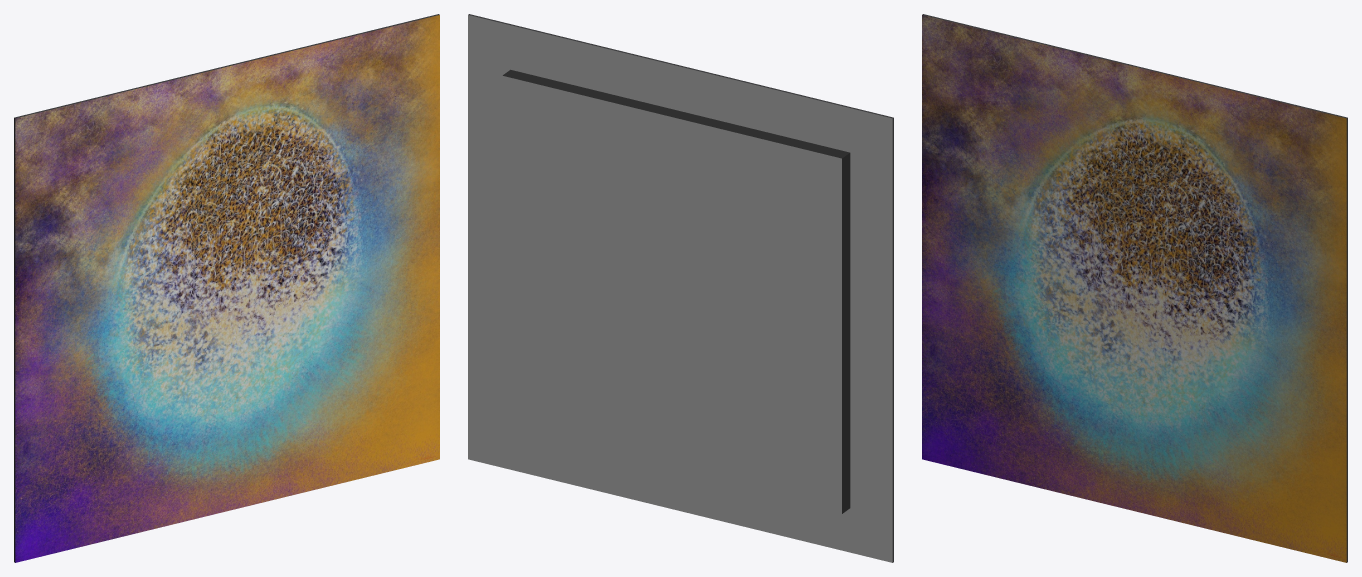
The model's file is vague-amour-366_moyen_dibond.glb.
3 renders of one model, left to right at view 1: azimuth 30°, elevation 25°; view 2: azimuth 150°, elevation 25°; view 3: azimuth 330°, elevation 25°, orthographic.
Parts seen in each view (by area): view 1: vague-amour-366_moyen_dibond; view 2: vague-amour-366_moyen_dibond; view 3: vague-amour-366_moyen_dibond.
Boxes of the visible parts, <box> form: vague-amour-366_moyen_dibond: <box>14,14,439,562</box>; vague-amour-366_moyen_dibond: <box>468,14,893,562</box>; vague-amour-366_moyen_dibond: <box>922,14,1347,562</box>.
Size of the model in its own units: 0.6 by 0.6 by 0.023.
Materials: 4 (1 with a texture image).
